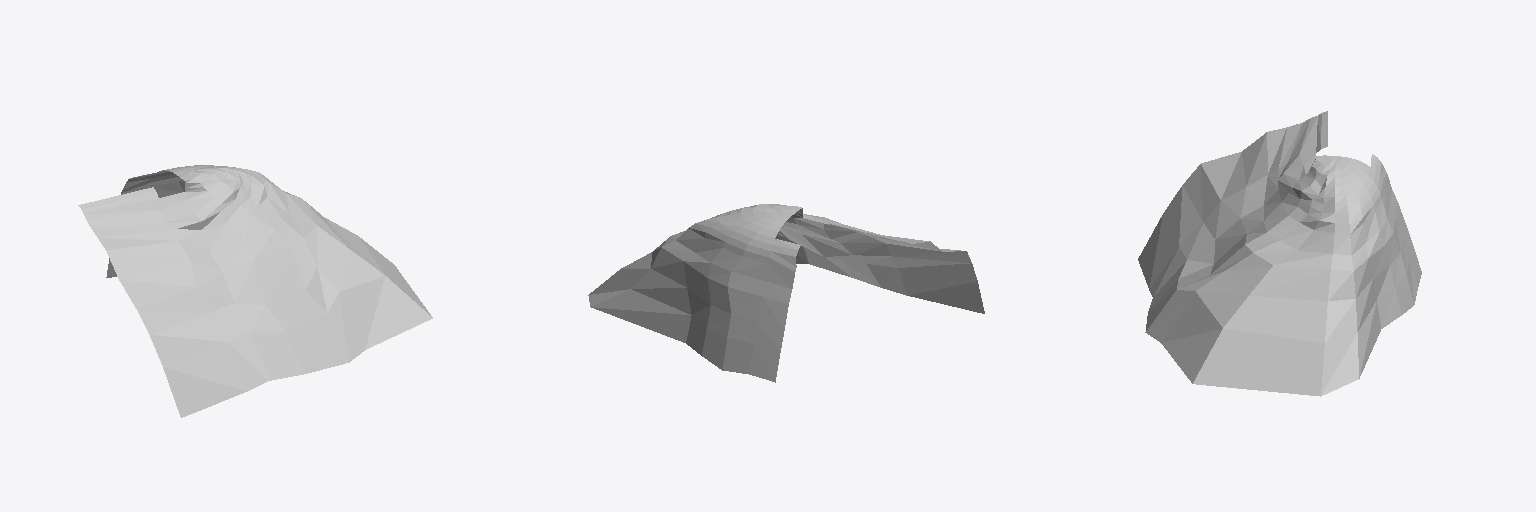
The model's file is Hill.obj.
3 renders of one model, left to right at view 1: azimuth 30°, elevation 25°; view 2: azimuth 150°, elevation 25°; view 3: azimuth 270°, elevation 25°, orthographic.
Parts seen in each view (by area): view 1: pSphere2; view 2: pSphere2; view 3: pSphere2.
Part boxes in pixels (left/top/right/bottom): pSphere2: left=78, top=165, right=432, bottom=417; pSphere2: left=588, top=204, right=984, bottom=382; pSphere2: left=1138, top=111, right=1421, bottom=396.
Bounding box in the file's own units: 617 × 277 × 477.